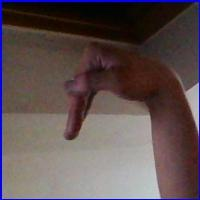A: (56, 33, 164, 155)
